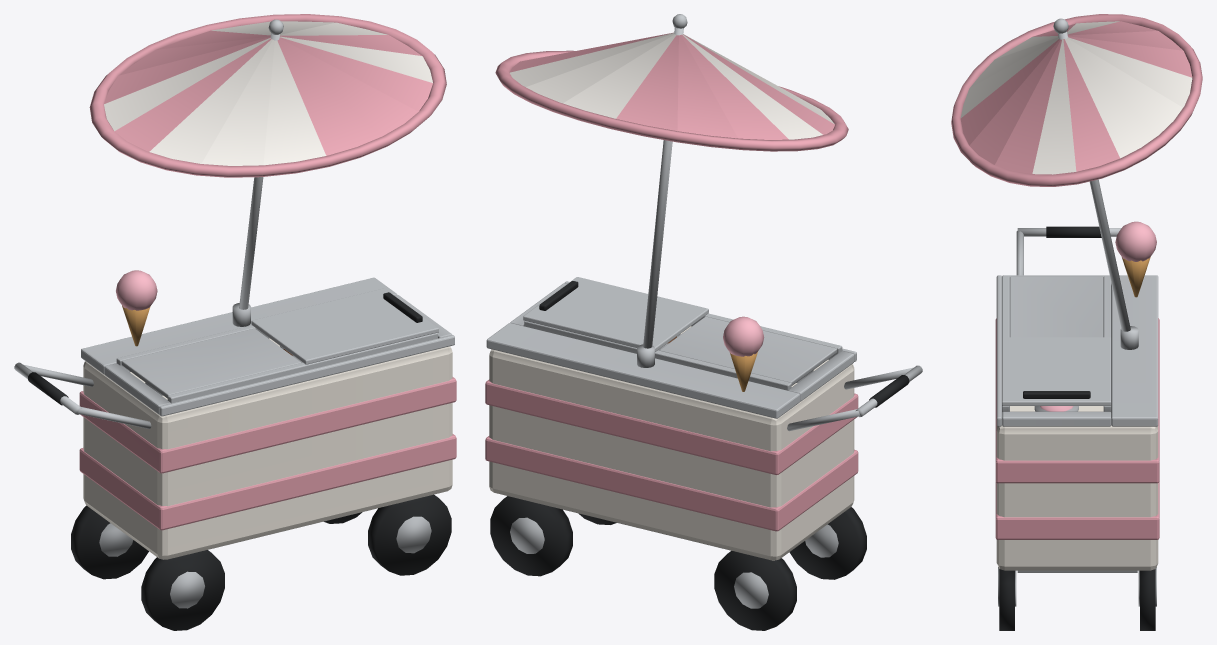
The model's file is iceCreamCart.glb.
3 views of the same model, side by side, from view 1: azimuth 30°, elevation 25°; view 2: azimuth 150°, elevation 25°; view 3: azimuth 270°, elevation 25° (orthographic).
Visible parts, largest first — view 1: body, lid; view 2: body, lid; view 3: body, lid.
Boxes of the visible parts, box(x1,y1,x2,y2) form: body: box(14, 14, 456, 630); lid: box(251, 288, 438, 364); body: box(485, 14, 922, 630); lid: box(523, 277, 708, 351); body: box(951, 14, 1202, 630); lid: box(1002, 337, 1111, 405).
Bounding box in the file's own units: 1.73 × 2.35 × 0.9659.
